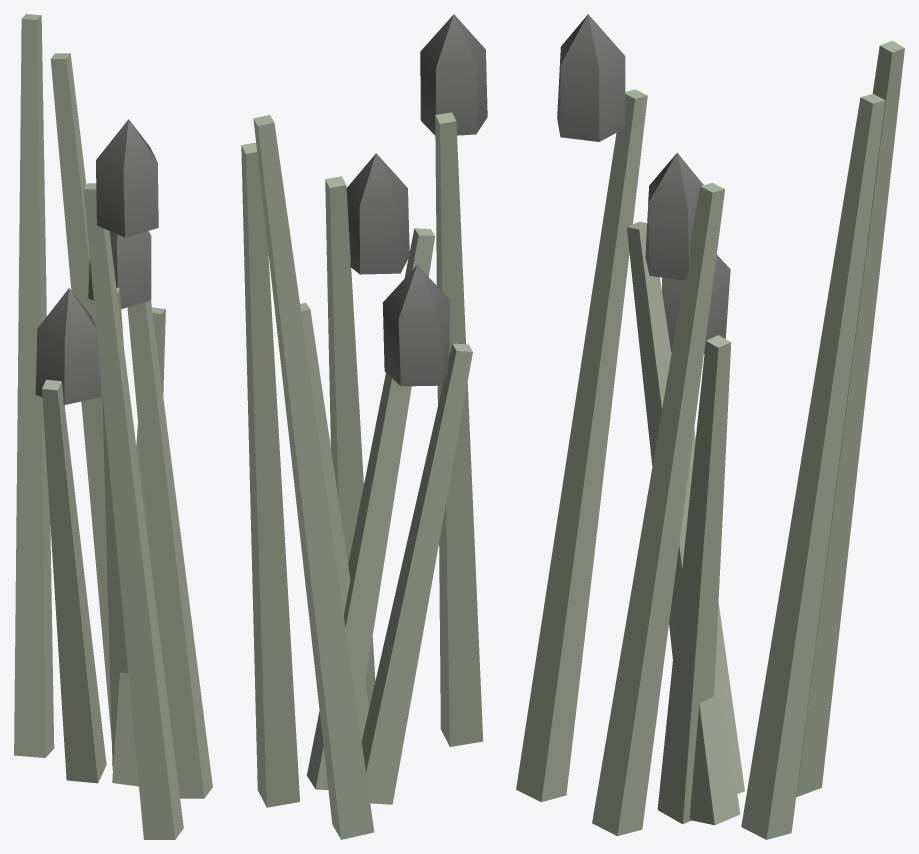
The model's file is reeds.glb.
The picture shows the model from 3 angles, left to right: view 1: azimuth 30°, elevation 25°; view 2: azimuth 150°, elevation 25°; view 3: azimuth 270°, elevation 25°; orthographic projection. The views are drawn at different scales.
Parts seen in each view (by area): view 1: reeds; view 2: reeds; view 3: reeds.
Part boxes in pixels (<box>): reeds: <box>14,14,212,839</box>; reeds: <box>241,14,487,839</box>; reeds: <box>516,14,904,839</box>.
Bounding box in the file's own units: 0.0941 × 0.4037 × 0.1837.
